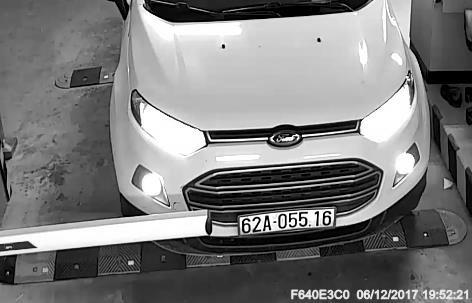License-plate: (234, 202, 347, 239)
